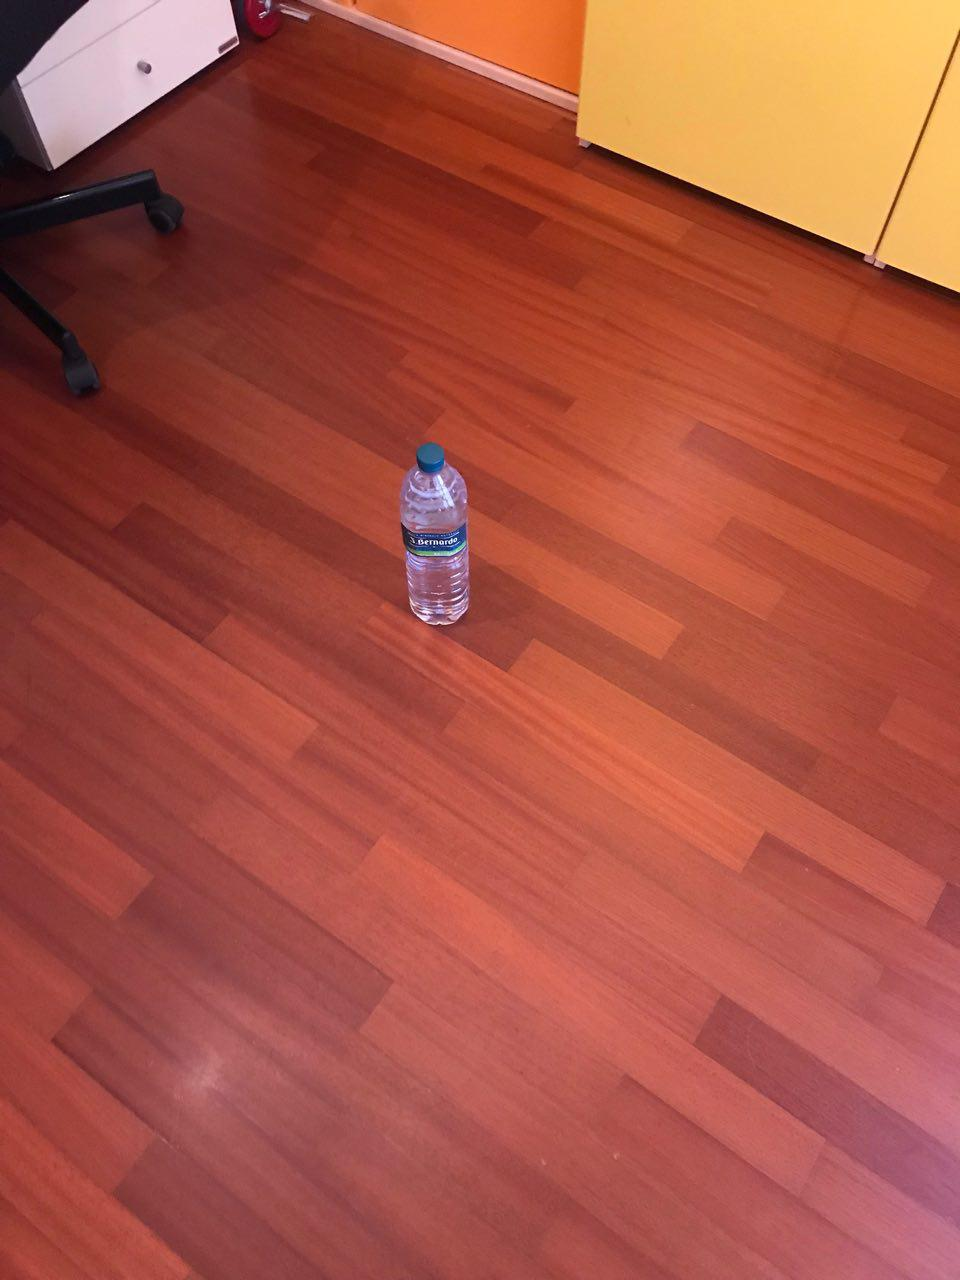san_bernardo: (400, 441, 471, 626)
